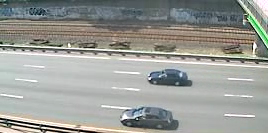car: (119, 104, 176, 130), (145, 67, 190, 87)
